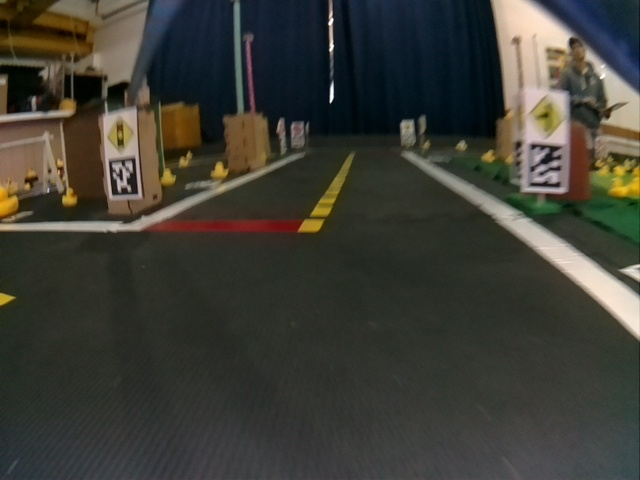Duckie: (1, 187, 17, 216), (160, 168, 177, 187), (211, 162, 229, 178), (62, 189, 77, 207)
Intersection sign: (529, 95, 567, 136)
QR code: (526, 143, 563, 190), (107, 159, 138, 196)
Signal sign: (105, 115, 136, 153)
